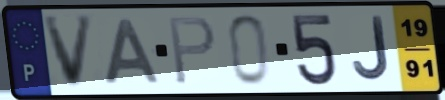0: (224, 11, 275, 89)
5: (287, 12, 339, 87)
A: (102, 17, 163, 87)
J: (350, 14, 393, 84)
P: (166, 14, 218, 88)
V: (41, 13, 98, 91)
